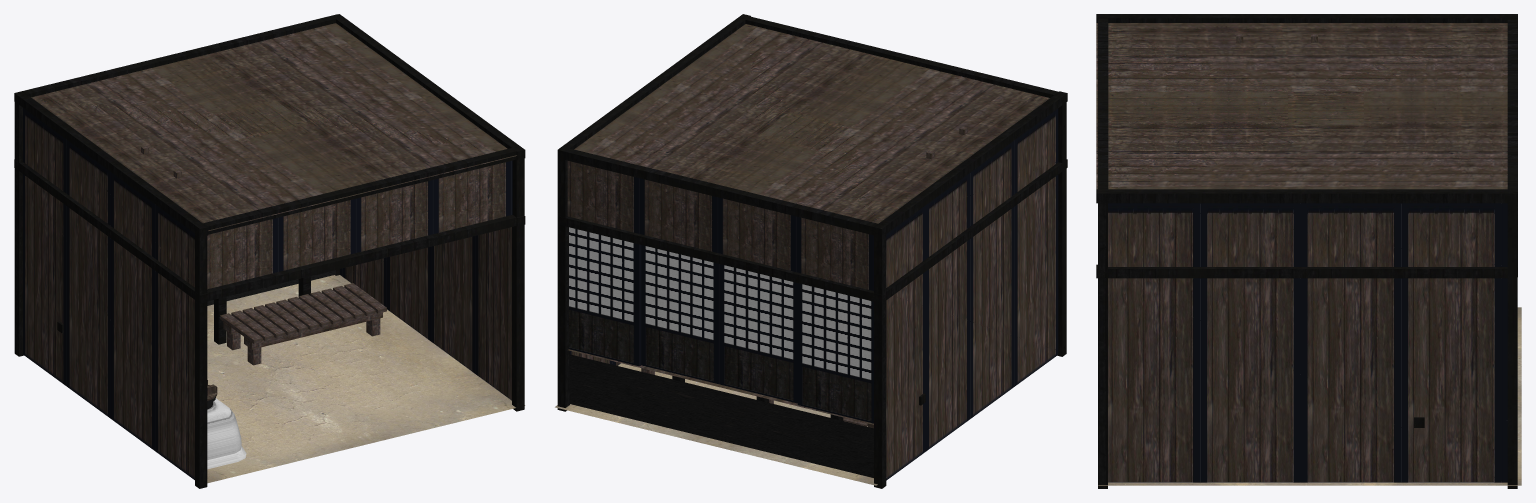
File: heya3.fbx
3 renders of one model, left to right at view 1: azimuth 30°, elevation 25°; view 2: azimuth 150°, elevation 25°; view 3: azimuth 270°, elevation 25°, orthographic. The views are drawn at different scales.
Parts seen in each view (by area): view 1: domasuteeji; view 2: domasuteeji; view 3: domasuteeji.
Part boxes in pixels (box(x1,y1,x2,y2)): domasuteeji: box(14, 14, 525, 488); domasuteeji: box(555, 14, 1067, 488); domasuteeji: box(1096, 14, 1521, 488).
Bounding box in the file's own units: 494 × 379 × 492.
22 materials, 21 textured.
